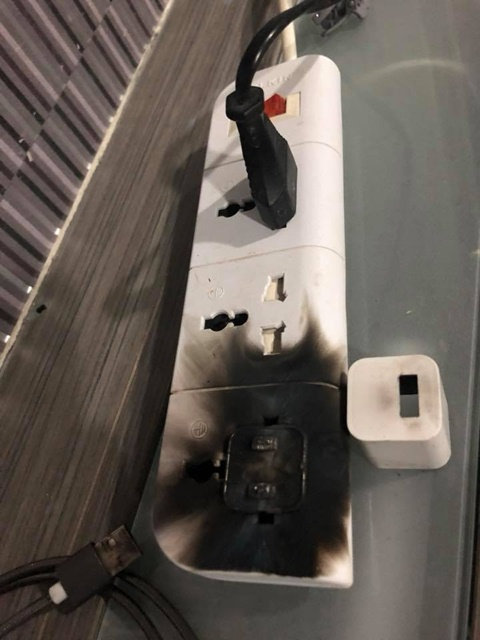Three_eye_plug: (147, 48, 361, 600)
